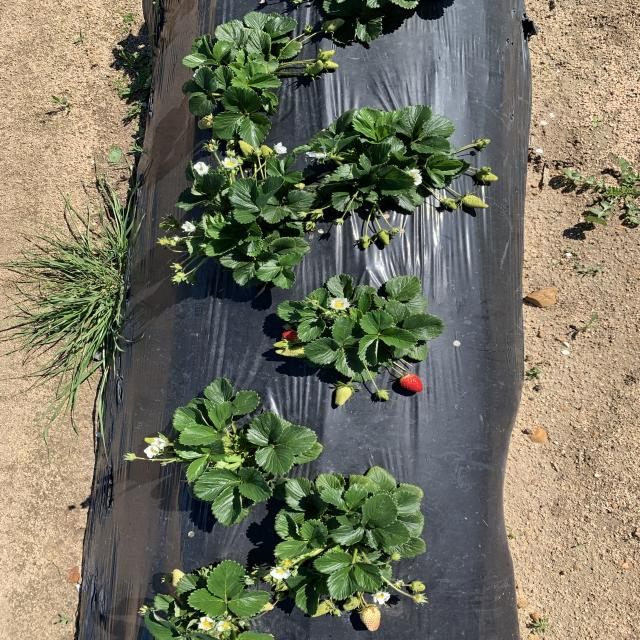unripe: (399, 373, 425, 394), (280, 328, 309, 344)
